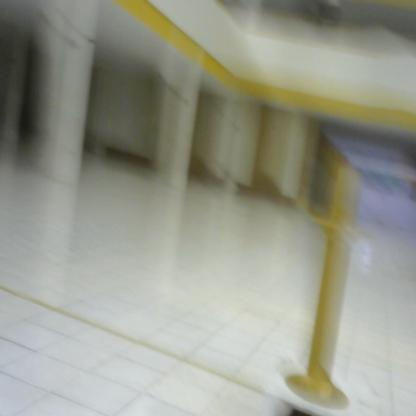pole: (281, 159, 370, 416)
